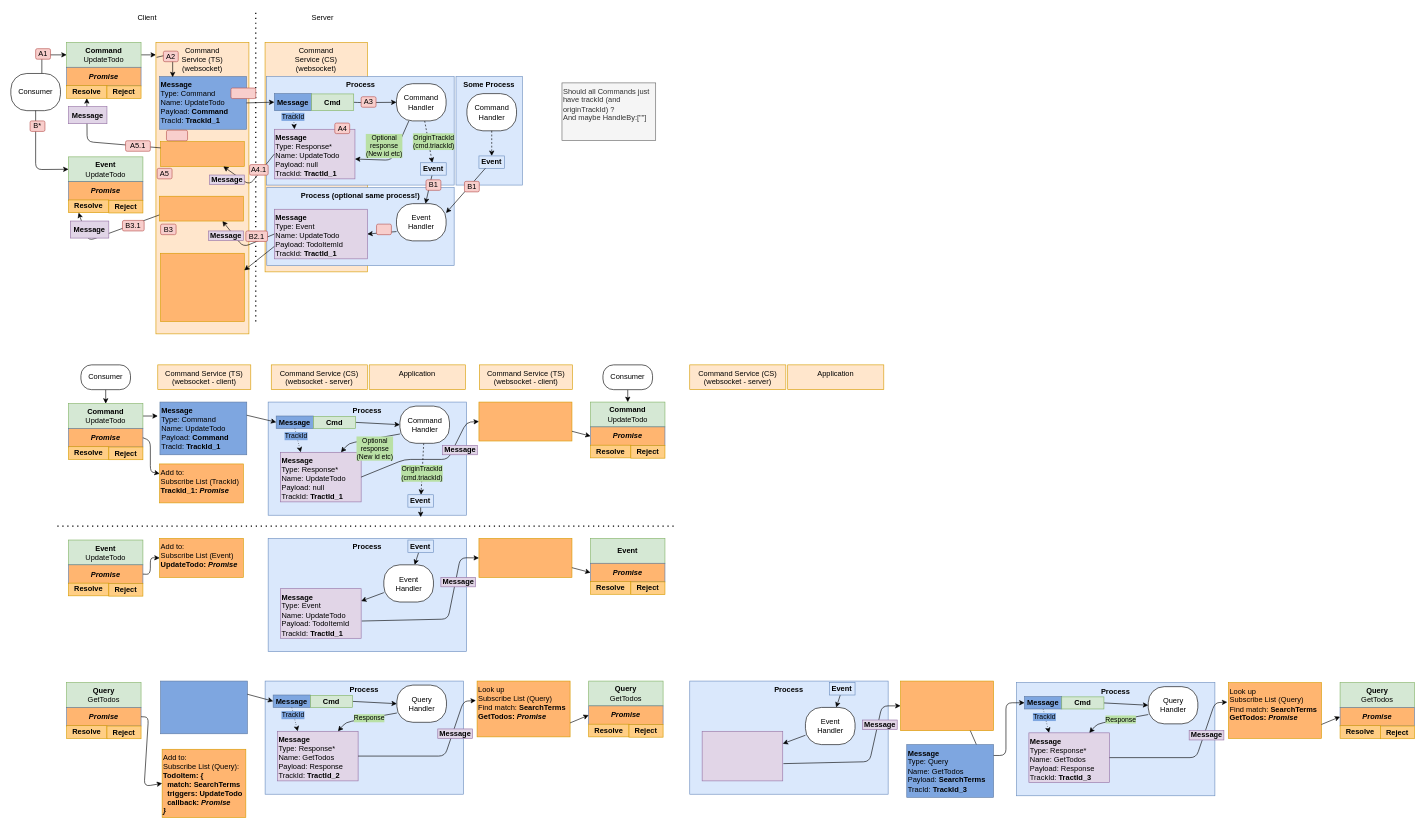
The diagram is 1425 pixels wide and 828 high, and some of its shapes have lost their labels. Each missing label, with the centre of its shape:
"A2.1" goes at (177,135).
"A2.2" goes at (243,93).
"B2" goes at (383,229).
"Look up Subscribe List (Event) UpdateTodo: Promise" goes at (525,557).
"Look up Subscribe List (Query) for triggers UpdateTodo: Promise" goes at (947,705).
"Look up Subscribe List (TrackId) TrackId_1: Promise" goes at (525,421).
"Message Type: Event Name: UpdateTodo Payload: TodoItemId TrackId: TractId_x" goes at (742,756).
"Message Type: Query Name: GetTodos Payload: SearchTerms TracId: TrackId_2" goes at (203,707).
"Subscribe List (Event): UpdateTodo: Promise" goes at (201,208).
"Subscribe List (Query): TodoItem: { triggers: UpdateTodo callback: Promise }" goes at (202,287).
"Subscribe List (TrackId): TrackId_1: Promise" goes at (202,153).
